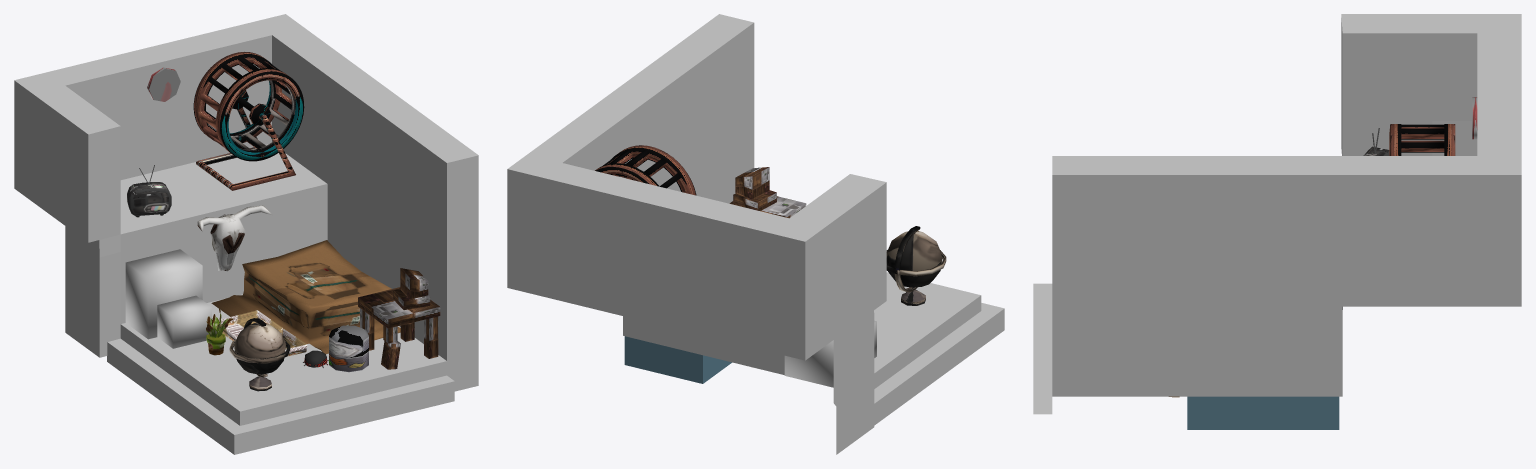
File: homeless_all.FBX
3 views of the same model, side by side, from view 1: azimuth 30°, elevation 25°; view 2: azimuth 150°, elevation 25°; view 3: azimuth 270°, elevation 25° (orthographic). The views are drawn at different scales.
Parts seen in each view (by area): view 1: house, bed_homeless, hamster_wheel, computer_homeless, Box01_homeless, globe_sphere, Box02_homeless, hunting trophy, chair_, tv, pizza box, wall clock (+1 smaller); view 2: house, globe_sphere, bed, hamster_wheel, computer_homeless, Box01_homeless; view 3: house, bed, hamster_wheel.
Boxes of the visible parts, left/top/right/bottom form: house: left=14, top=14, right=478, bottom=454; bed_homeless: left=211, top=240, right=400, bottom=354; hamster_wheel: left=193, top=52, right=304, bottom=190; computer_homeless: left=358, top=268, right=440, bottom=369; Box01_homeless: left=125, top=249, right=202, bottom=339; globe_sphere: left=229, top=318, right=290, bottom=391; Box02_homeless: left=157, top=295, right=211, bottom=348; hunting trophy: left=197, top=205, right=272, bottom=271; chair_: left=329, top=325, right=368, bottom=372; tv: left=127, top=165, right=171, bottom=217; pizza box: left=216, top=310, right=307, bottom=356; wall clock: left=147, top=67, right=180, bottom=101; house: left=507, top=14, right=1004, bottom=454; globe_sphere: left=886, top=226, right=946, bottom=305; bed: left=624, top=336, right=731, bottom=383; hamster_wheel: left=595, top=145, right=696, bottom=195; computer_homeless: left=729, top=167, right=806, bottom=218; Box01_homeless: left=784, top=340, right=833, bottom=387; house: left=1033, top=14, right=1521, bottom=414; bed: left=1187, top=396, right=1339, bottom=429; hamster_wheel: left=1389, top=124, right=1455, bottom=155.
Size of the model in its own units: 13.13 by 10.73 by 16.82.
